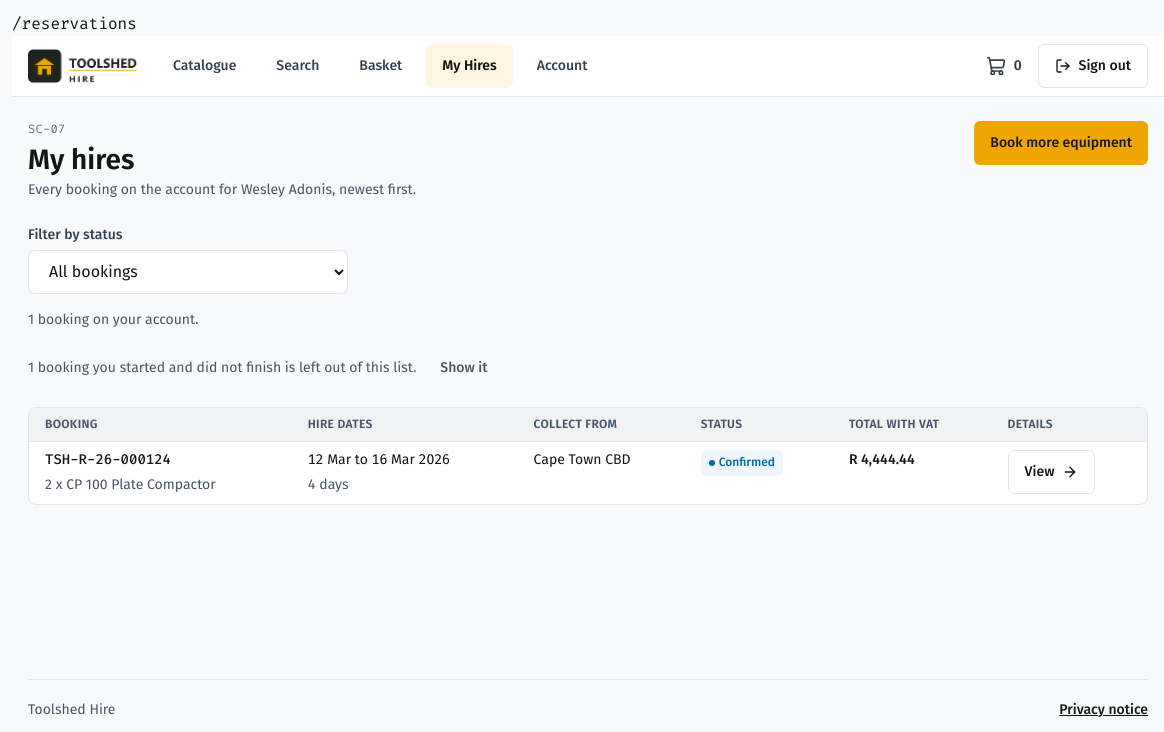
Test case: bookings that were not finished › are shown when the person asks for them, through the status filter
Expected: the text "TSH-R-26-000124" is shown, [45, 450, 171, 469]
Click the button "Show it": (464, 369) [432, 347, 495, 391]
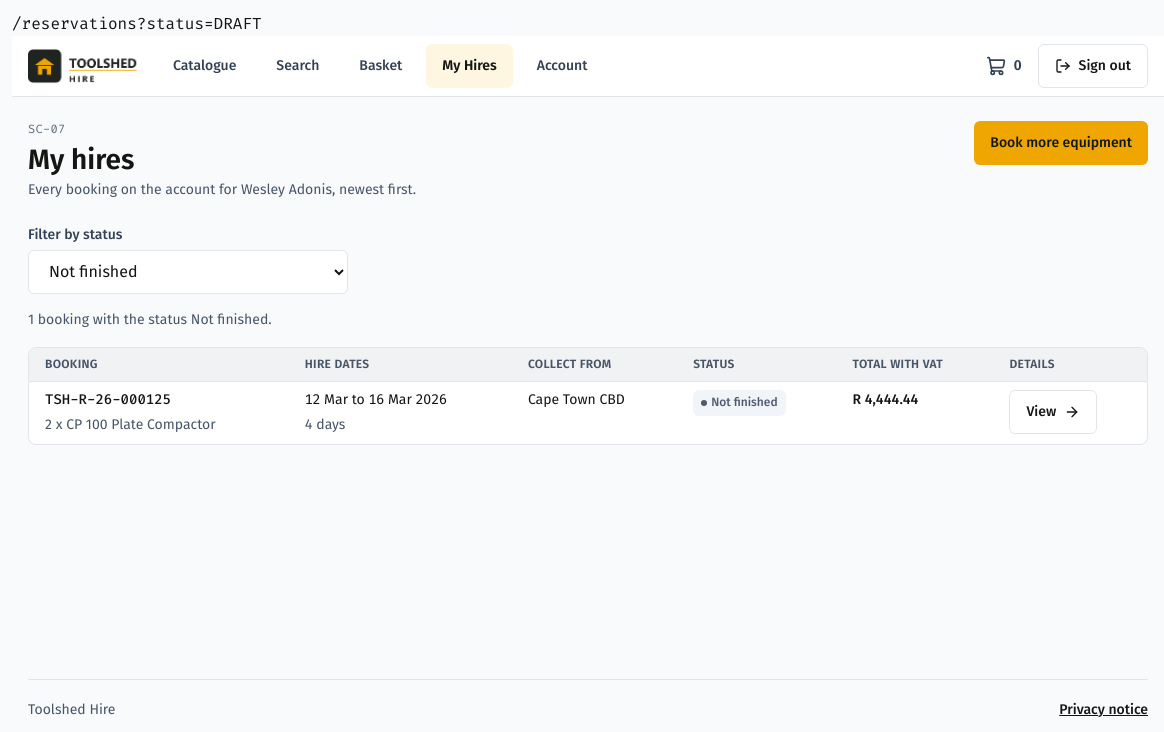
Result: the text "TSH-R-26-000125" is shown at [45, 390, 171, 409]
Result: the dropdown labelled "Filter by status" shows "Not finished" at [28, 250, 348, 294]
Result: the text with test id "current-address" reads "/reservations?status=DRAFT" at [12, 13, 262, 34]
